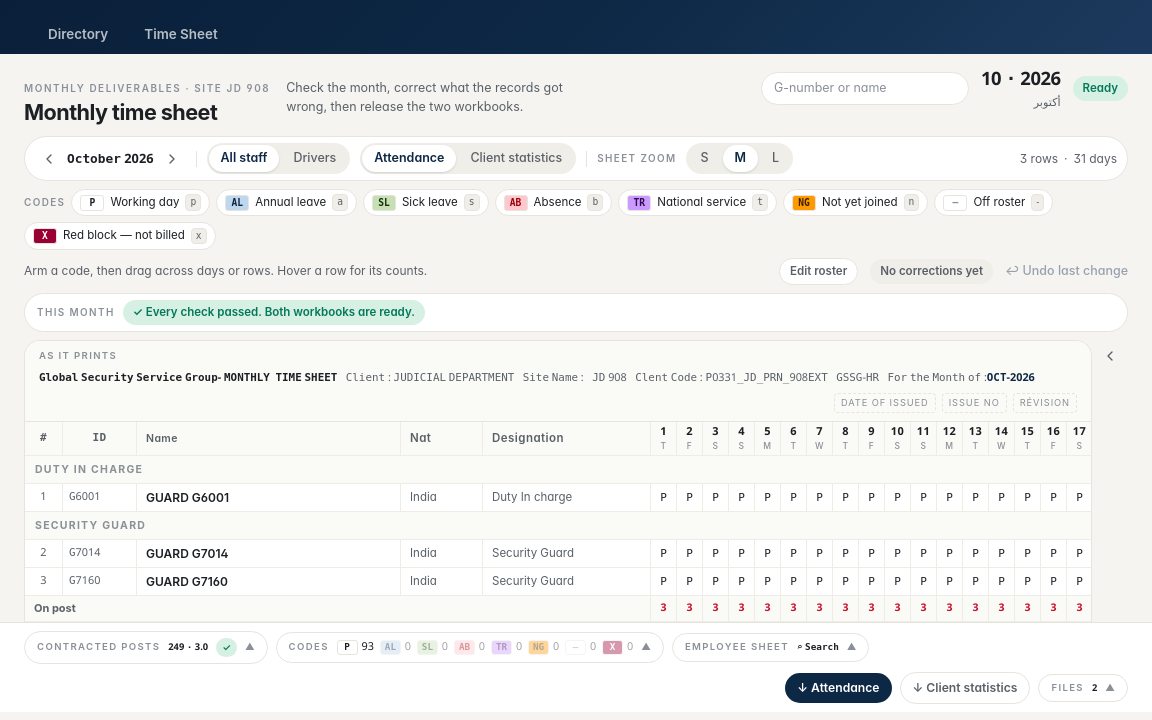
it: staging a move › offers only the active designations of the sheet on screen
Expected: the text "GUARD G7160" is shown, [146, 574, 228, 588]
Click the button "Edit roster".
click(819, 271)  # box [779, 258, 858, 285]
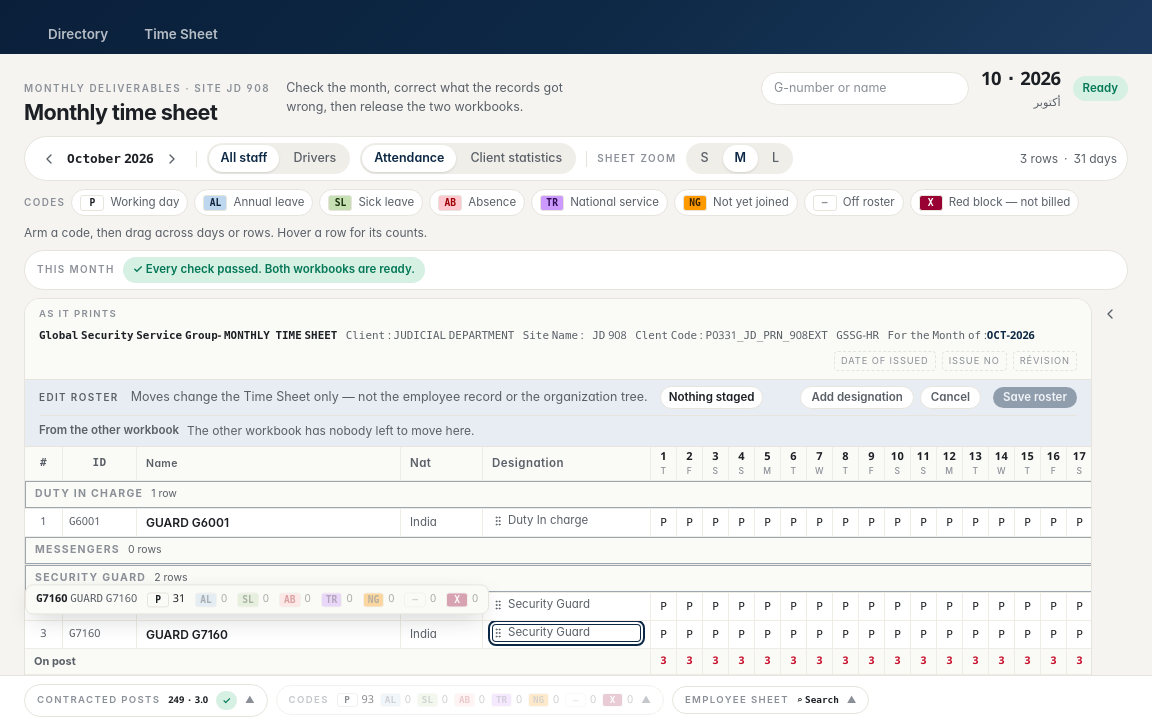
Press Enter
(page scrolled)
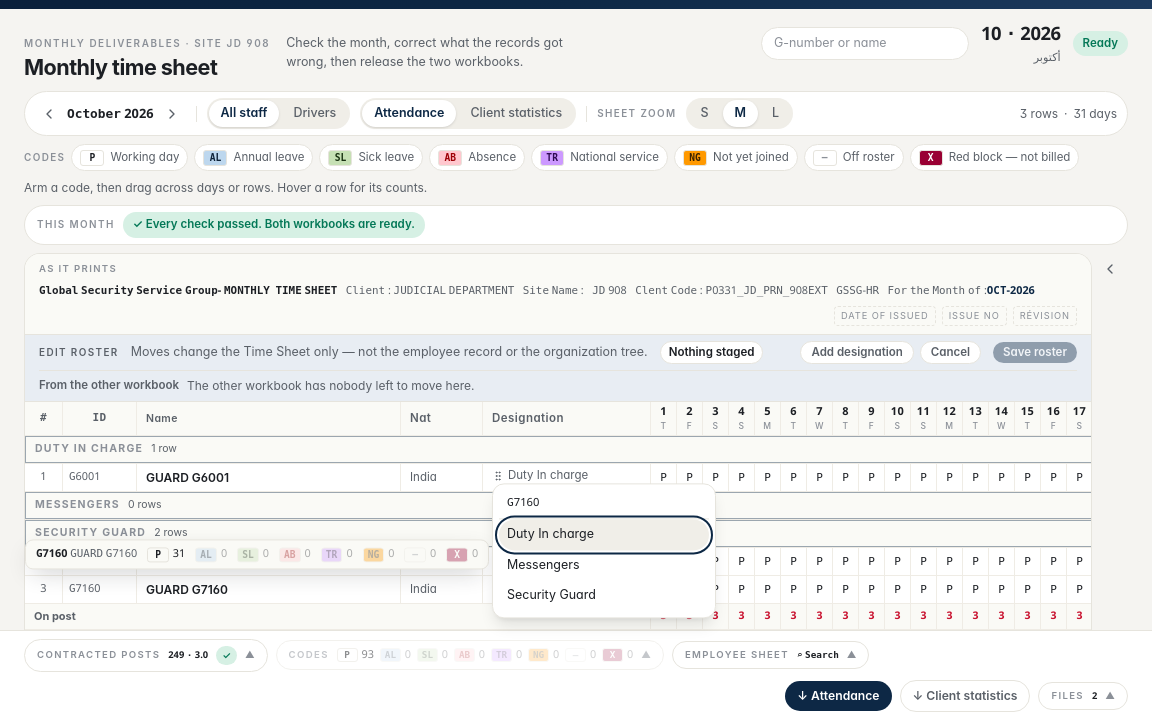
Result: the menu items read "Duty In charge", "Messengers", "Security Guard", in this order at [499, 519, 709, 550]; [499, 550, 709, 581]; [499, 581, 709, 611]
